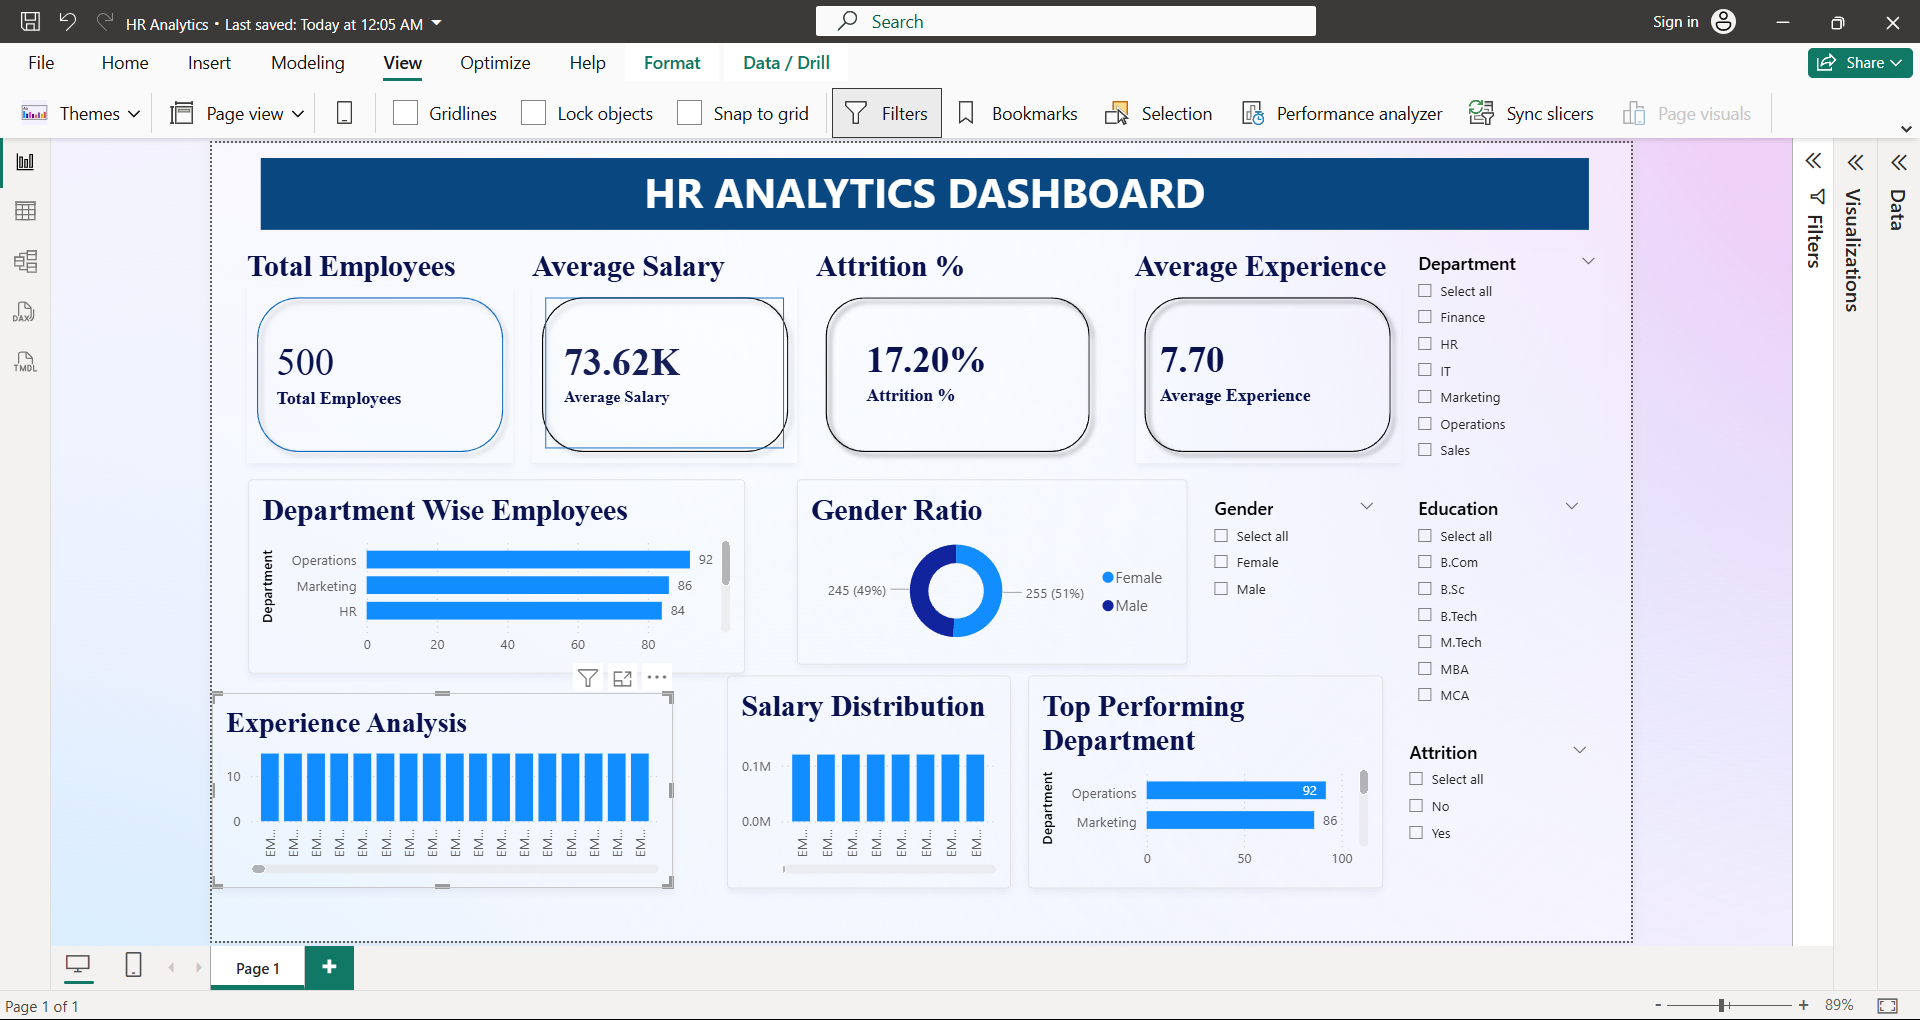

What the dashboard file says about the page in this screenshot:
{"tool":"powerbi","page":{"name":"Page 1","canvas":[1280,720],"ordinal":0},"visuals":[{"type":"shape","title":"Average Experience","box":[832,96,240,192],"z":0},{"type":"shape","title":"Attrition %","box":[544,96,256,192],"z":1000},{"type":"shape","title":"Average Salary","box":[288,96,240,192],"z":2000},{"type":"cardVisual","fields":{"Data":["Sheet.Average Salary"]},"box":[288.4,127.9,239.5,160.5],"z":3000},{"type":"shape","title":"Total Employees","box":[32,96,240,192],"z":4000},{"type":"cardVisual","fields":{"Data":["Sheet.Attrition %"]},"box":[554.7,127.9,245.3,160.5],"z":5000},{"type":"cardVisual","fields":{"Data":["Sheet.Average Experience"]},"box":[832.6,127.9,239.5,160.5],"z":6000},{"type":"textbox","box":[44.2,14,1197.7,65.1],"z":7000},{"type":"clusteredBarChart","title":"Department Wise Employees","fields":{"Category":["Sheet.Department"],"Y":["CountNonNull(Sheet.Employee ID)"]},"box":[32.6,303.5,447.7,175.6],"z":8000},{"type":"clusteredColumnChart","title":" Experience Analysis","fields":{"Y":["Sum(Sheet.Experience)"],"Category":["Sheet.Employee ID"]},"box":[0,496,416,176],"z":9000},{"type":"donutChart","title":"Gender Ratio","fields":{"Category":["Sheet.Gender"],"Y":["CountNonNull(Sheet.Employee ID)"]},"box":[527.9,303.5,352.3,167.4],"z":10000},{"type":"columnChart","title":"Salary Distribution","fields":{"Y":["Sum(Sheet.Salary)"],"Category":["Sheet.Employee ID"]},"box":[464,480,256,192],"z":11000},{"type":"barChart","title":"Top Performing Department","fields":{"Category":["Sheet.Department"],"Y":["CountNonNull(Sheet.Performance)"]},"box":[736,480.2,319.8,191.9],"z":12000},{"type":"slicer","fields":{"Values":["Sheet.Department"]},"box":[1080.2,96.5,175.6,191.9],"z":13000},{"type":"slicer","fields":{"Values":["Sheet.Gender"]},"box":[896.5,317.4,159.3,118.6],"z":14000},{"type":"slicer","fields":{"Values":["Sheet.Education"]},"box":[1080.2,317.4,160.5,193],"z":15000},{"type":"slicer","fields":{"Values":["Sheet.Attrition"]},"box":[1072.1,537.2,175.6,111.6],"z":16000},{"type":"cardVisual","fields":{"Data":["Sheet.Total Employees"]},"box":[32,128,240,160],"z":17000}]}

Visuals, with their boxes on the page's 1280x720 design canvas (x1, y1, x2, y2). These are canvas units, not pixel positions in the 1920x1020 screenshot, which may show the page scaled, cropped or inside an application window:
"Average Experience" shape: locate(832, 96, 1072, 288)
"Attrition %" shape: locate(544, 96, 800, 288)
"Average Salary" shape: locate(288, 96, 528, 288)
cardVisual - Sheet.Average Salary: locate(288, 128, 528, 288)
"Total Employees" shape: locate(32, 96, 272, 288)
cardVisual - Sheet.Attrition %: locate(555, 128, 800, 288)
cardVisual - Sheet.Average Experience: locate(833, 128, 1072, 288)
textbox: locate(44, 14, 1242, 79)
"Department Wise Employees" clusteredBarChart: locate(33, 304, 480, 479)
" Experience Analysis" clusteredColumnChart: locate(0, 496, 416, 672)
"Gender Ratio" donutChart: locate(528, 304, 880, 471)
"Salary Distribution" columnChart: locate(464, 480, 720, 672)
"Top Performing Department" barChart: locate(736, 480, 1056, 672)
slicer - Sheet.Department: locate(1080, 96, 1256, 288)
slicer - Sheet.Gender: locate(896, 317, 1056, 436)
slicer - Sheet.Education: locate(1080, 317, 1241, 510)
slicer - Sheet.Attrition: locate(1072, 537, 1248, 649)
cardVisual - Sheet.Total Employees: locate(32, 128, 272, 288)
